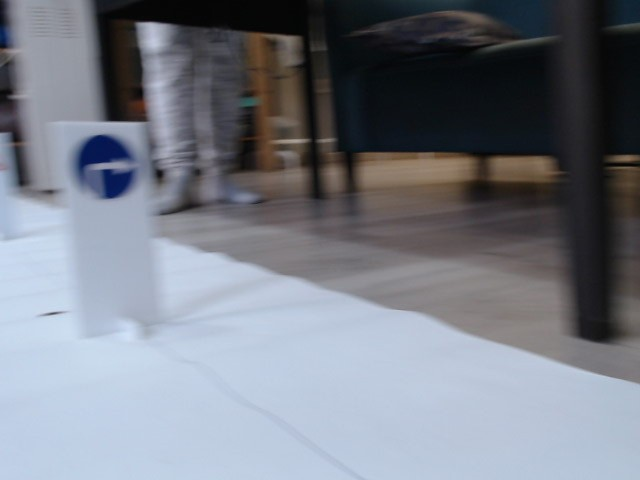Right: (72, 134, 140, 195)
